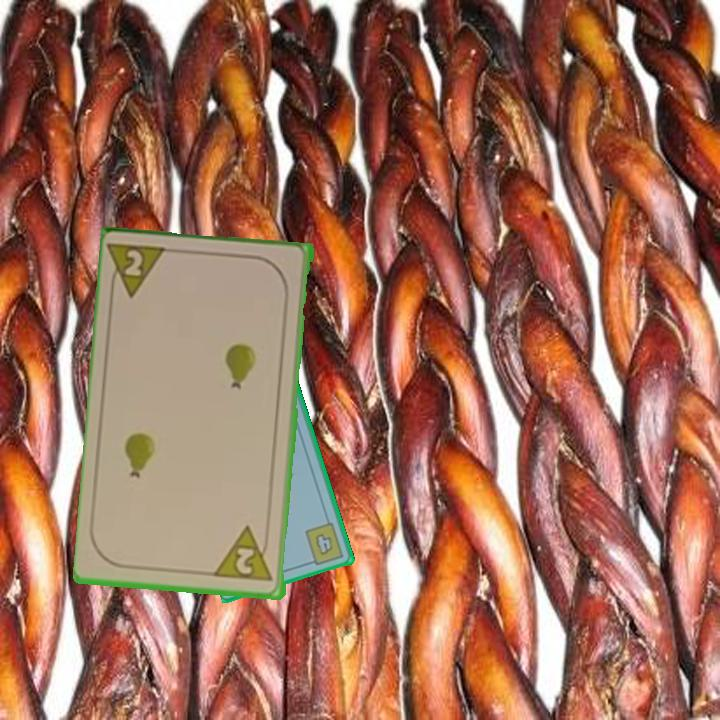2p: (107, 240, 173, 302), (213, 523, 276, 585)
4b: (302, 519, 347, 568)
